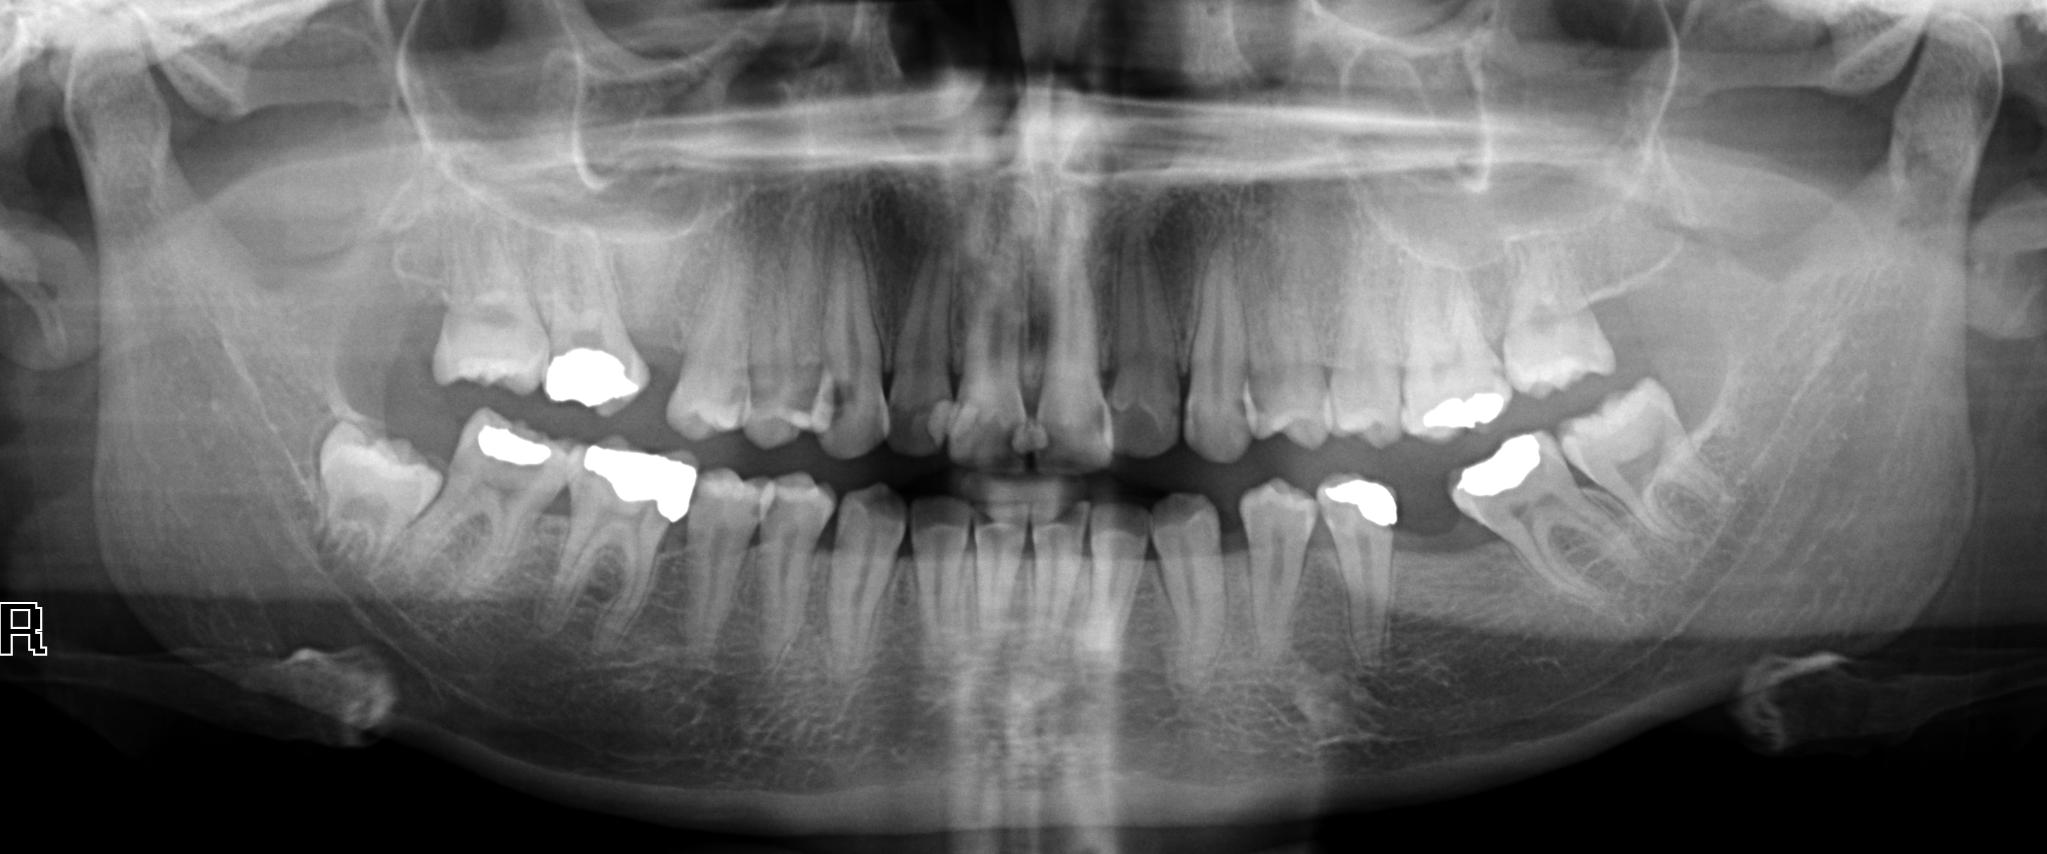Cavity: (906, 484, 972, 652)
Fillings: (1445, 430, 1638, 597), (551, 442, 694, 639), (410, 407, 555, 597), (532, 220, 658, 419), (1395, 245, 1519, 442), (1319, 472, 1400, 666)
